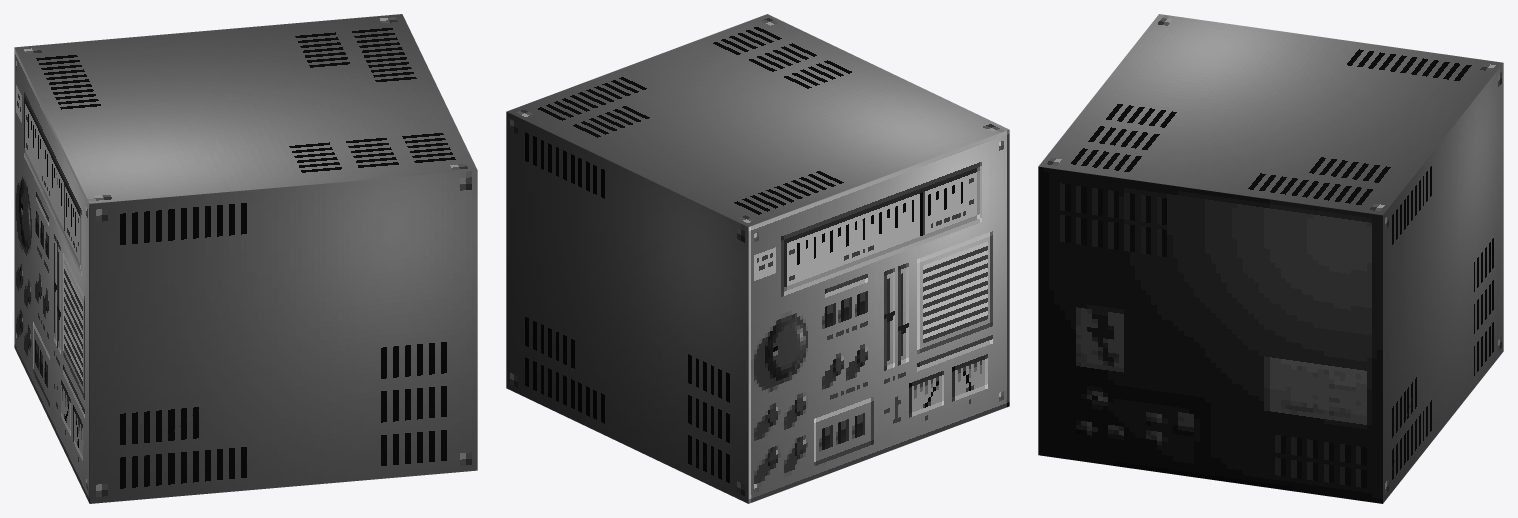
The model's file is surface2_primary_056.glb.
3 renders of one model, left to right at view 1: azimuth 30°, elevation 25°; view 2: azimuth 150°, elevation 25°; view 3: azimuth 270°, elevation 25°, orthographic. The views are drawn at different scales.
Parts seen in each view (by area): view 1: Object; view 2: Object; view 3: Object.
Boxes of the visible parts, <box> form: Object: <box>14,14,477,503</box>; Object: <box>506,14,1009,503</box>; Object: <box>1038,14,1503,503</box>.
Bounding box in the file's own units: 0.8566 × 0.5725 × 0.8367.
Materials: 6 (6 with a texture image).
